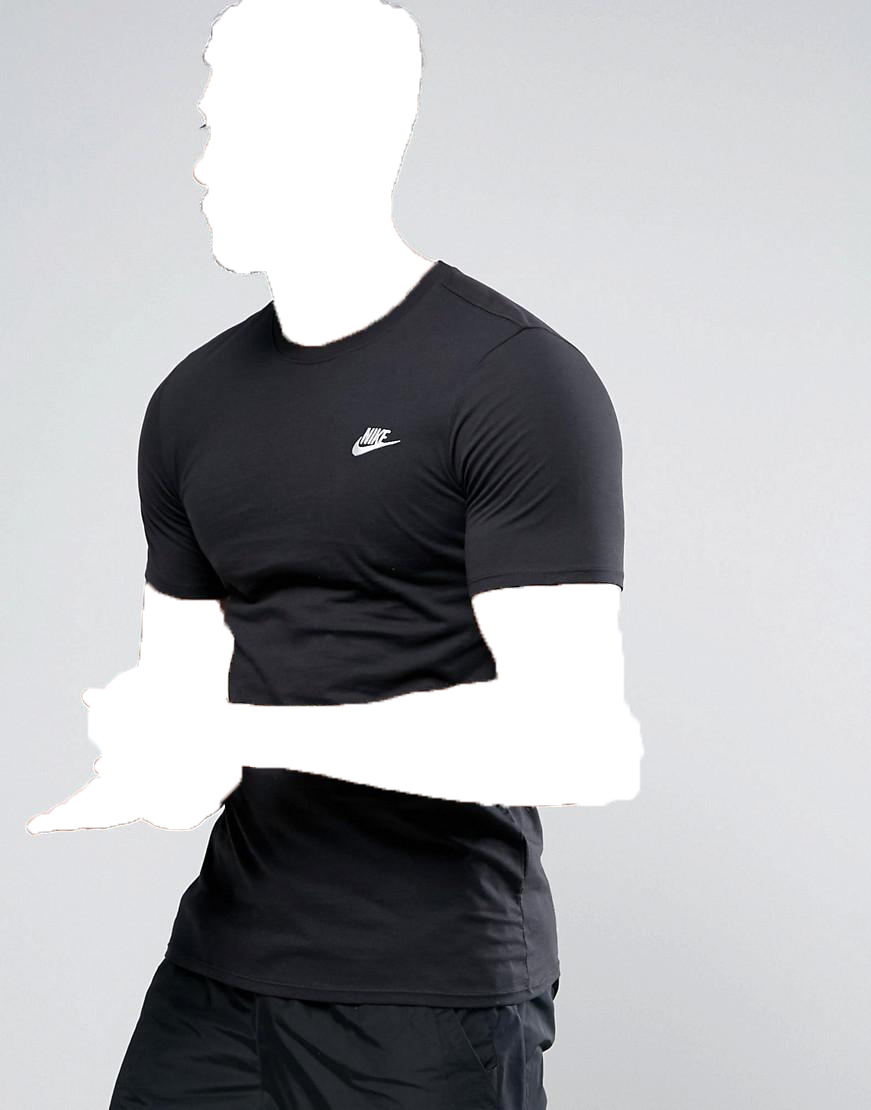teeshirt: (107, 256, 637, 1003)
